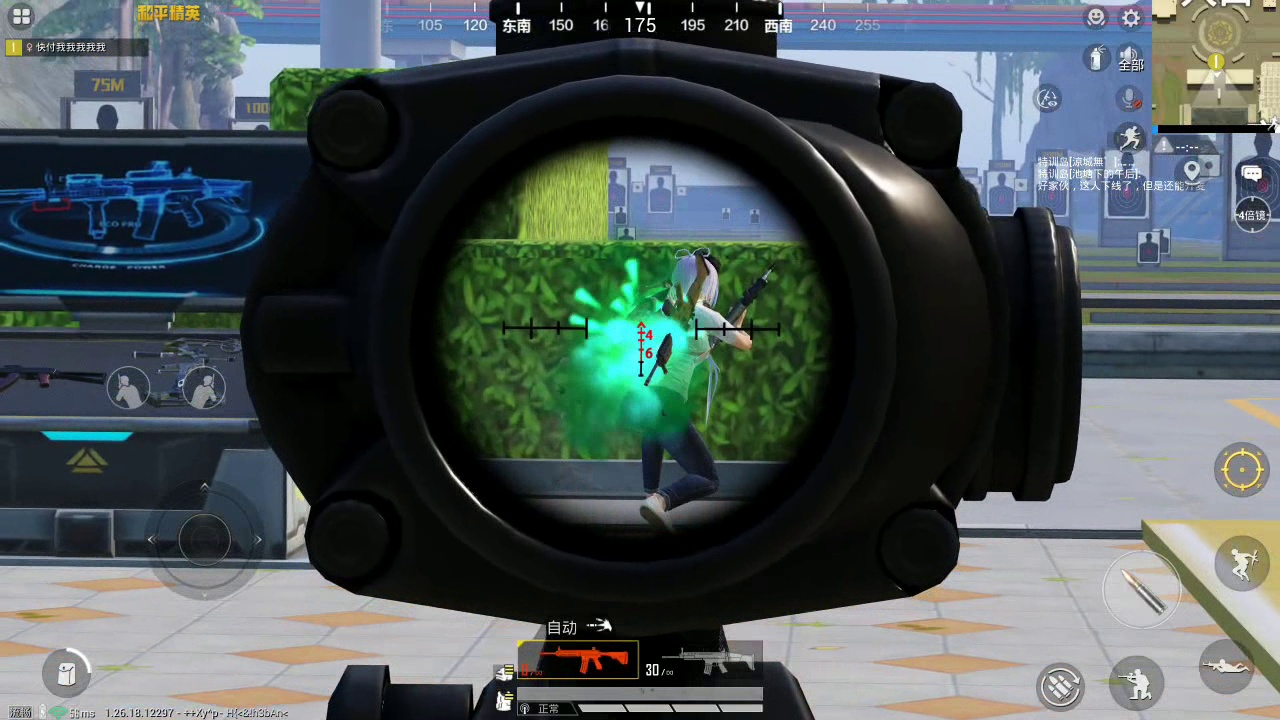enemy: (632, 256, 736, 512)
